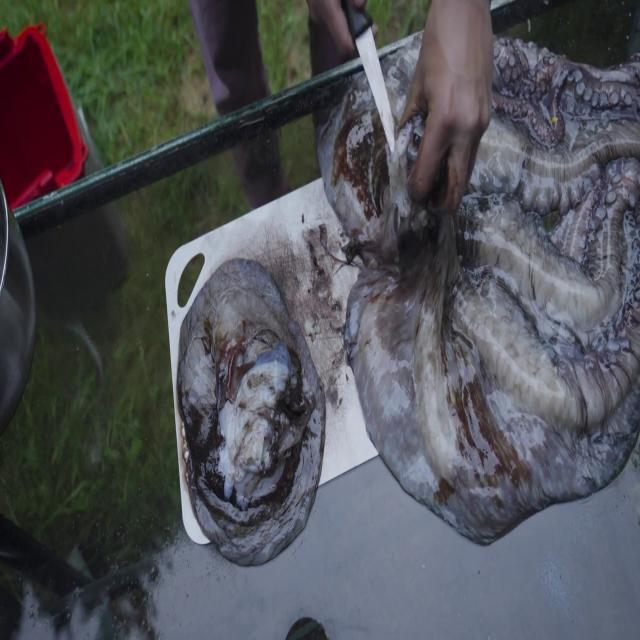octopus: (313, 31, 640, 547)
